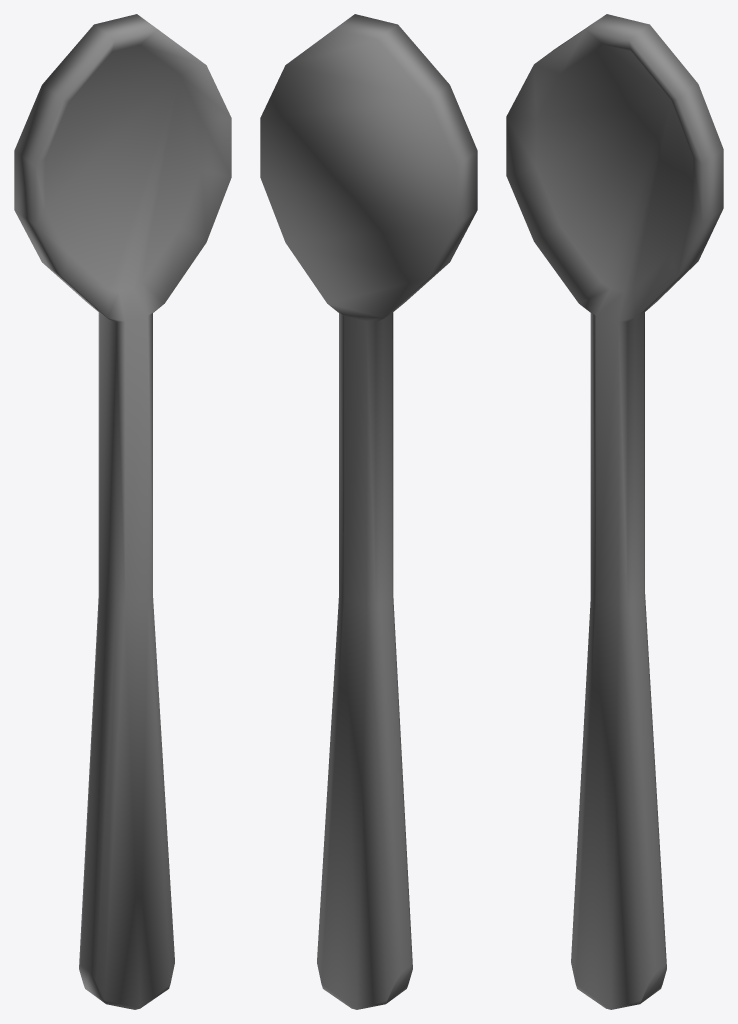
File: cuchara.obj
The picture shows the model from 3 angles, left to right: view 1: azimuth 30°, elevation 25°; view 2: azimuth 150°, elevation 25°; view 3: azimuth 330°, elevation 25°; orthographic projection.
Visible parts, largest first — view 1: cuchara; view 2: cuchara; view 3: cuchara.
Part boxes in pixels (x1,y1,x2,y2): cuchara: (14, 14, 231, 1009); cuchara: (260, 14, 477, 1009); cuchara: (506, 14, 723, 1009).
Bounding box in the file's own units: 0.1505 × 0.7137 × 0.0278.
1 material, 1 textured.
